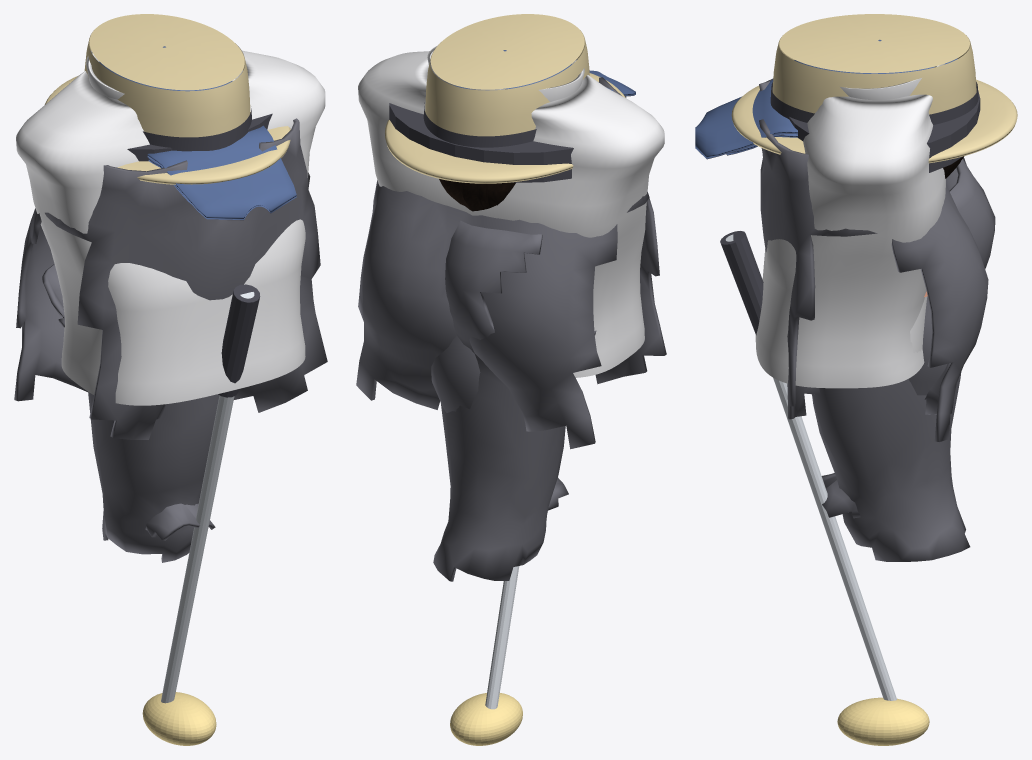
The model's file is hero_world_base.glb.
3 renders of one model, left to right at view 1: azimuth 30°, elevation 25°; view 2: azimuth 150°, elevation 25°; view 3: azimuth 270°, elevation 25°, orthographic.
Parts seen in each view (by area): view 1: torso_shirt, pelvis, thigh, straw, straw_top, cap_brim, clubw_shaft, clubw_head, clubw_grip, shin, belt_strap, collar; view 2: pelvis, torso_shirt, thigh, straw, straw_top, belt_strap, shin, clubw_head, clubw_shaft, mpfb_hair, collar; view 3: torso_shirt, thigh, pelvis, straw, straw_top, clubw_shaft, clubw_head, cap_brim, clubw_grip, shin, belt_strap, collar.
Part boxes in pixels (left/top/right/bottom): torso_shirt: left=16, top=50, right=325, bottom=405; pelvis: left=14, top=118, right=327, bottom=439; thigh: left=42, top=264, right=219, bottom=562; straw: left=44, top=30, right=290, bottom=184; straw_top: left=89, top=14, right=244, bottom=90; cap_brim: left=147, top=125, right=296, bottom=220; clubw_shaft: left=161, top=292, right=254, bottom=703; clubw_head: left=142, top=692, right=216, bottom=745; clubw_grip: left=218, top=284, right=260, bottom=397; shin: left=145, top=503, right=215, bottom=540; belt_strap: left=127, top=113, right=272, bottom=161; collar: left=86, top=45, right=243, bottom=99; pelvis: left=356, top=77, right=666, bottom=449; torso_shirt: left=358, top=51, right=664, bottom=377; thigh: left=433, top=220, right=596, bottom=581; straw: left=384, top=30, right=625, bottom=183; straw_top: left=430, top=14, right=584, bottom=89; belt_strap: left=389, top=103, right=573, bottom=182; shin: left=431, top=335, right=568, bottom=510; clubw_head: left=450, top=693, right=522, bottom=745; clubw_shaft: left=485, top=566, right=519, bottom=709; mpfb_hair: left=439, top=179, right=515, bottom=211; collar: left=427, top=46, right=584, bottom=101; torso_shirt: left=755, top=94, right=945, bottom=388; thigh: left=812, top=157, right=995, bottom=561; pelvis: left=759, top=78, right=988, bottom=441; straw: left=731, top=35, right=1017, bottom=163; straw_top: left=779, top=14, right=969, bottom=73; clubw_shaft: left=725, top=234, right=896, bottom=700; clubw_head: left=837, top=697, right=929, bottom=745; cap_brim: left=695, top=79, right=797, bottom=159; clubw_grip: left=720, top=231, right=763, bottom=335; shin: left=821, top=296, right=957, bottom=518; belt_strap: left=789, top=90, right=980, bottom=172; collar: left=840, top=63, right=944, bottom=100.
Size of the model in its own units: 0.6827 by 1.57 by 0.6635.
19 materials, 8 textured.
